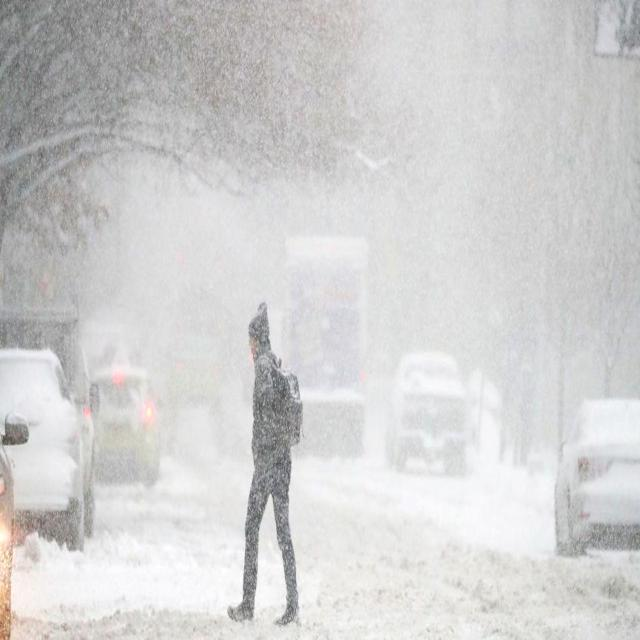Car: (0, 309, 92, 563), (528, 391, 640, 551), (391, 326, 468, 471), (92, 332, 158, 482)
Truck: (282, 228, 366, 452)
